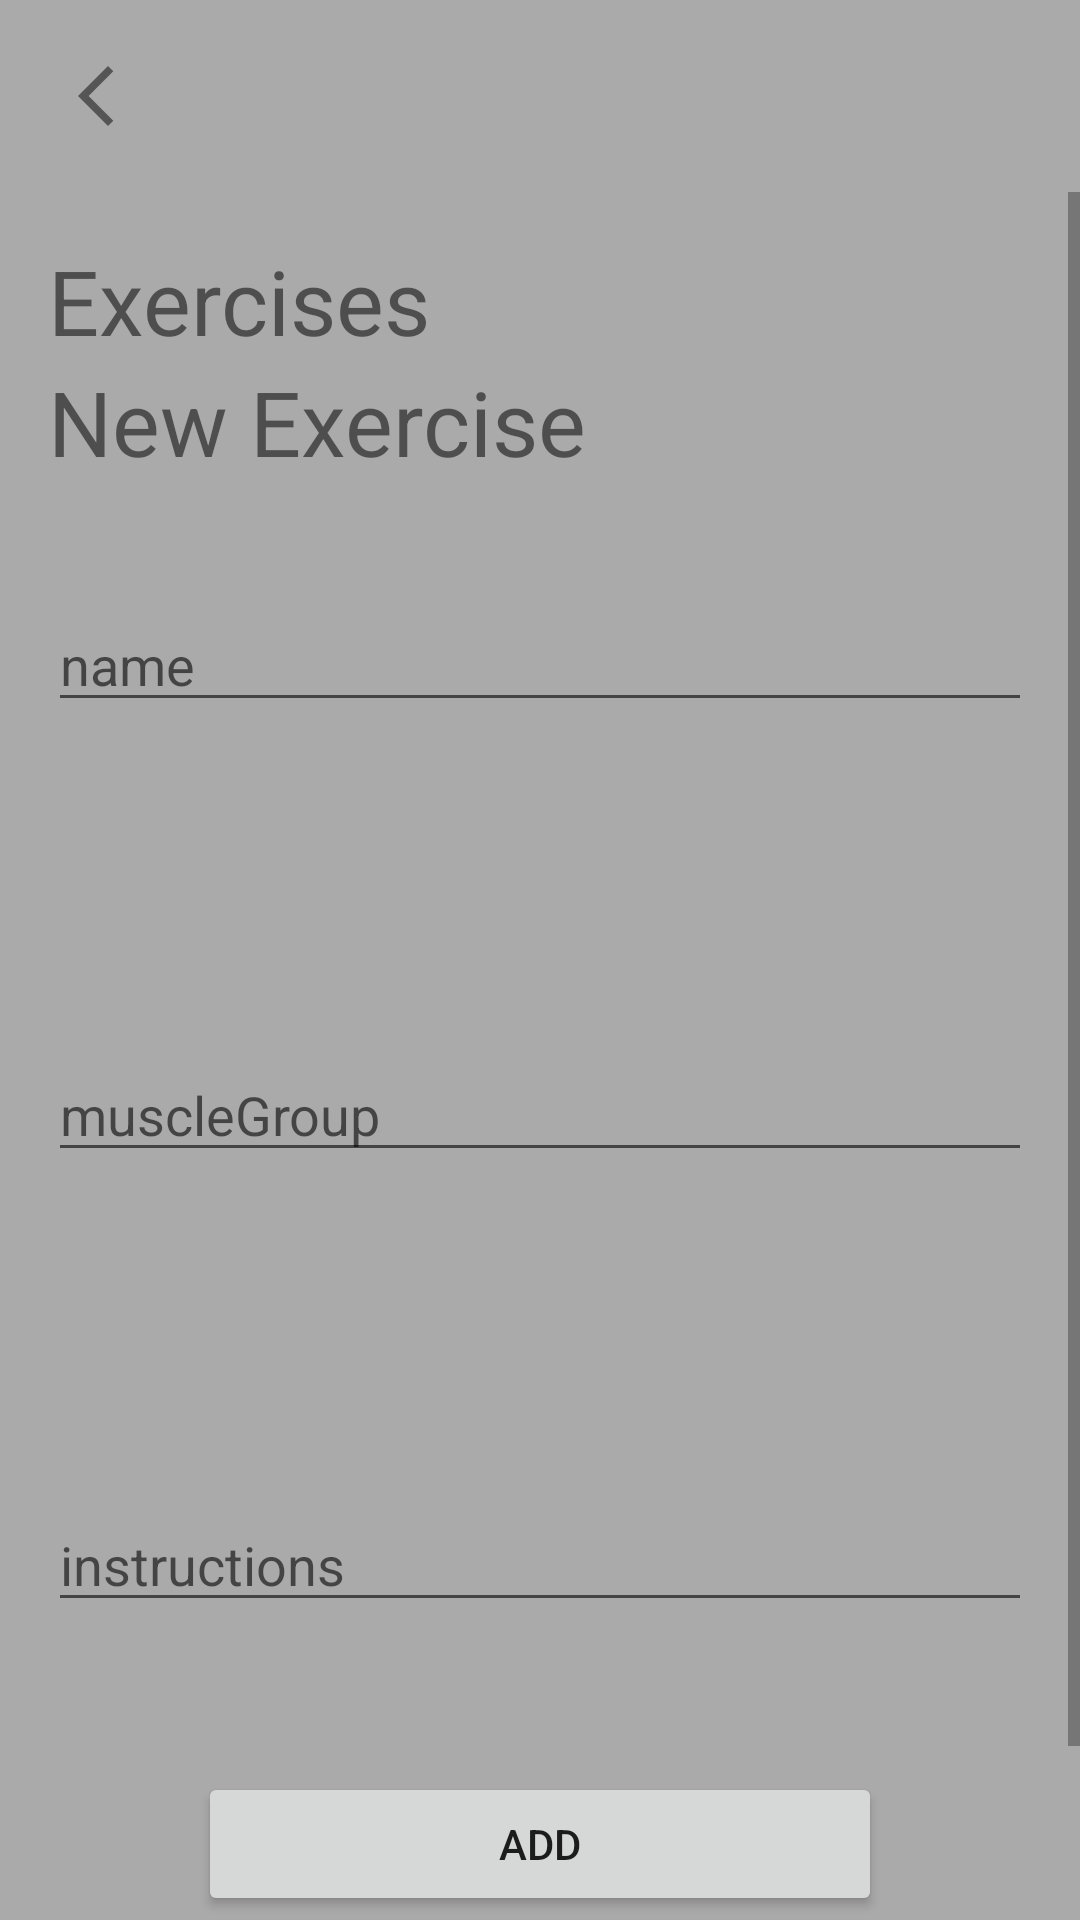

Screen size 1080w x 1920h. Icon name, then its center in pixels as (x=x, y=y):
arrow back: (x=95, y=96)
